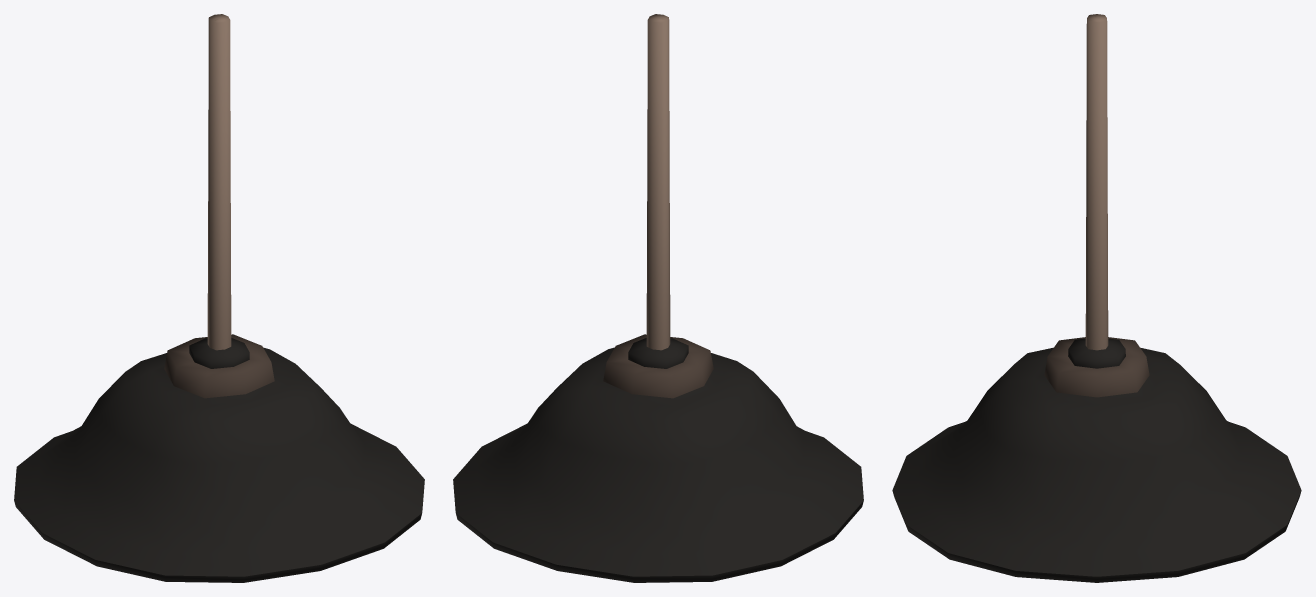
File: Ceiling-Lamp.fbx
3 renders of one model, left to right at view 1: azimuth 30°, elevation 25°; view 2: azimuth 150°, elevation 25°; view 3: azimuth 270°, elevation 25°, orthographic.
Visible parts, largest first — view 1: Lamp.001; view 2: Lamp.001; view 3: Lamp.001.
Boxes of the visible parts, x1=… form: Lamp.001: x1=14, y1=14, x2=424, y2=582; Lamp.001: x1=453, y1=14, x2=863, y2=582; Lamp.001: x1=892, y1=14, x2=1301, y2=582.
Bounding box in the file's own units: 104 × 135 × 104.
